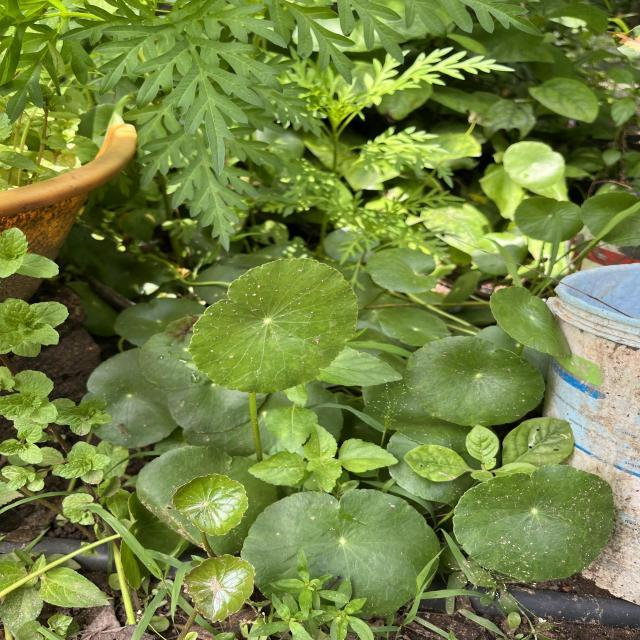Bacopa monnieri: (238, 486, 442, 624), (187, 256, 361, 396), (451, 462, 617, 584), (402, 333, 548, 429), (488, 283, 573, 359), (180, 551, 258, 625), (168, 472, 250, 538)
